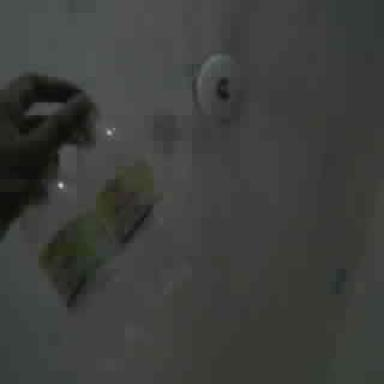bottle: (20, 113, 205, 365)
